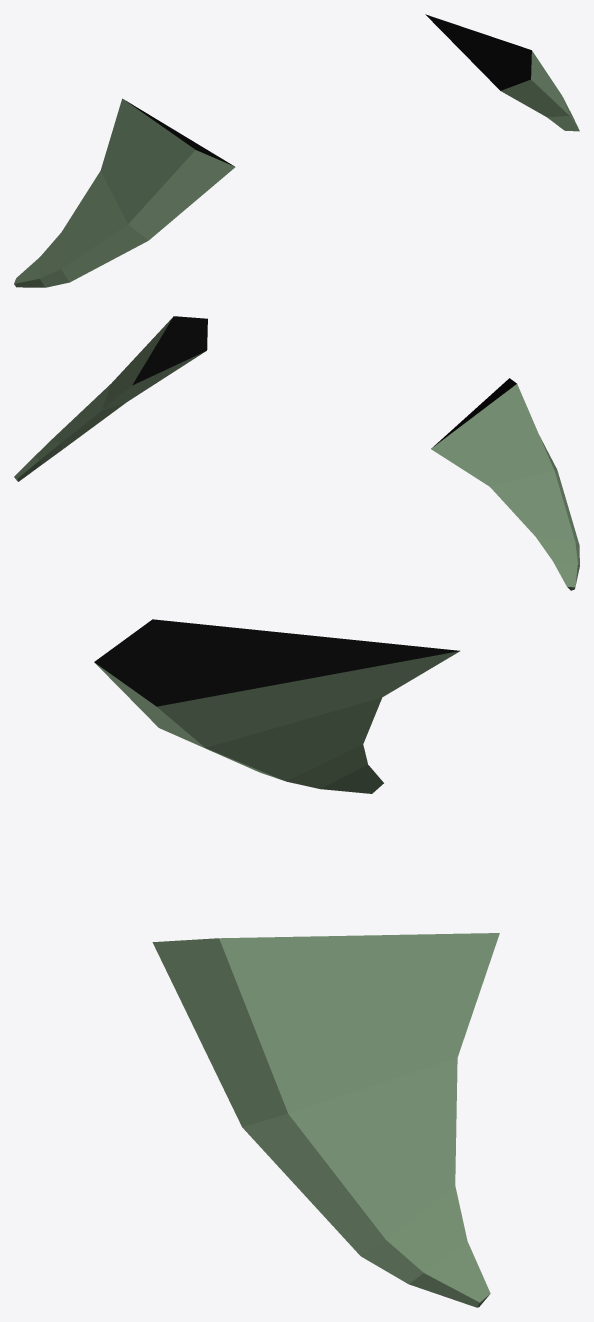
File: SnapirimPickup.fbx
3 views of the same model, one above another, from view 1: azimuth 30°, elevation 25°; view 2: azimuth 150°, elevation 25°; view 3: azimuth 270°, elevation 25° (orthographic). The views are drawn at different scales.
Parts seen in each view (by area): view 1: SnapirimPickup; view 2: SnapirimPickup; view 3: SnapirimPickup.
Boxes of the visible parts, x1,y1,x2,y2 form: SnapirimPickup: (14, 14, 579, 287); SnapirimPickup: (14, 316, 579, 590); SnapirimPickup: (94, 619, 499, 1307).
Bounding box in the file's own units: 171 × 42.85 × 56.13.
